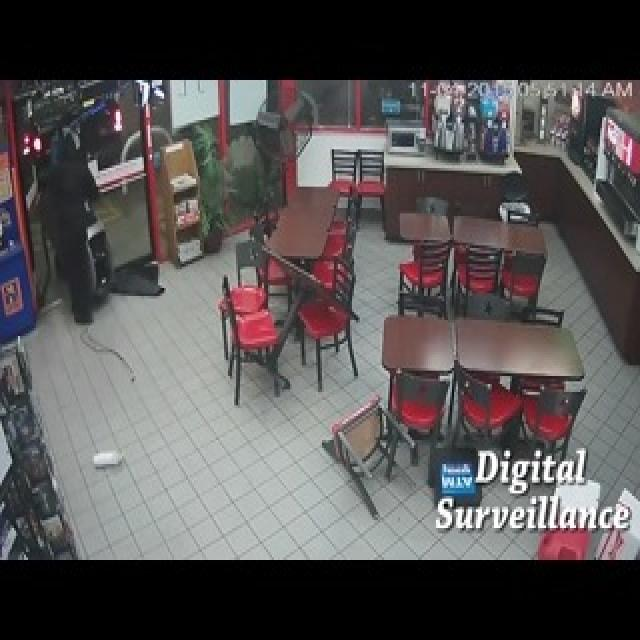thief: (39, 118, 88, 215)
